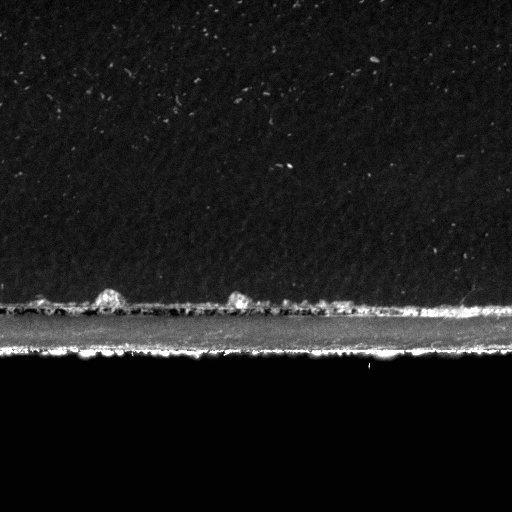jiaofeng: (0, 301, 321, 321)
